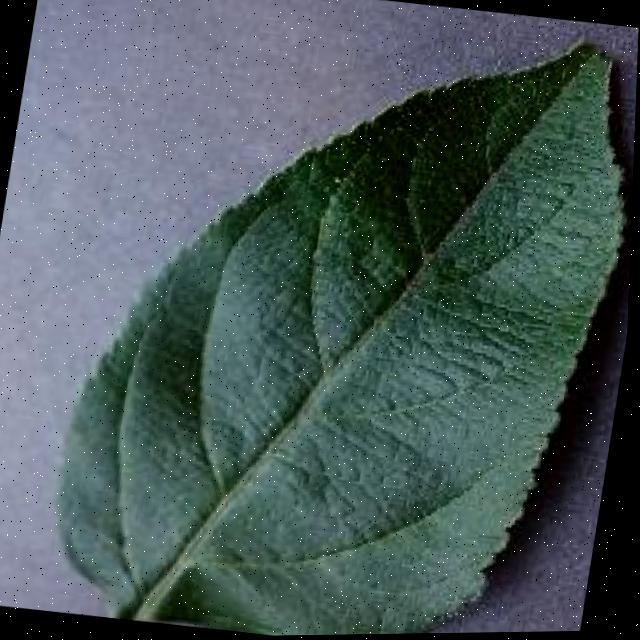healthy: (15, 0, 640, 639)
